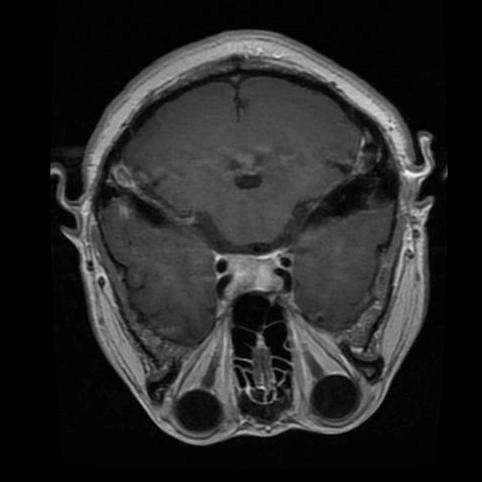Tumour-Pituitary: (211, 253, 301, 306)
